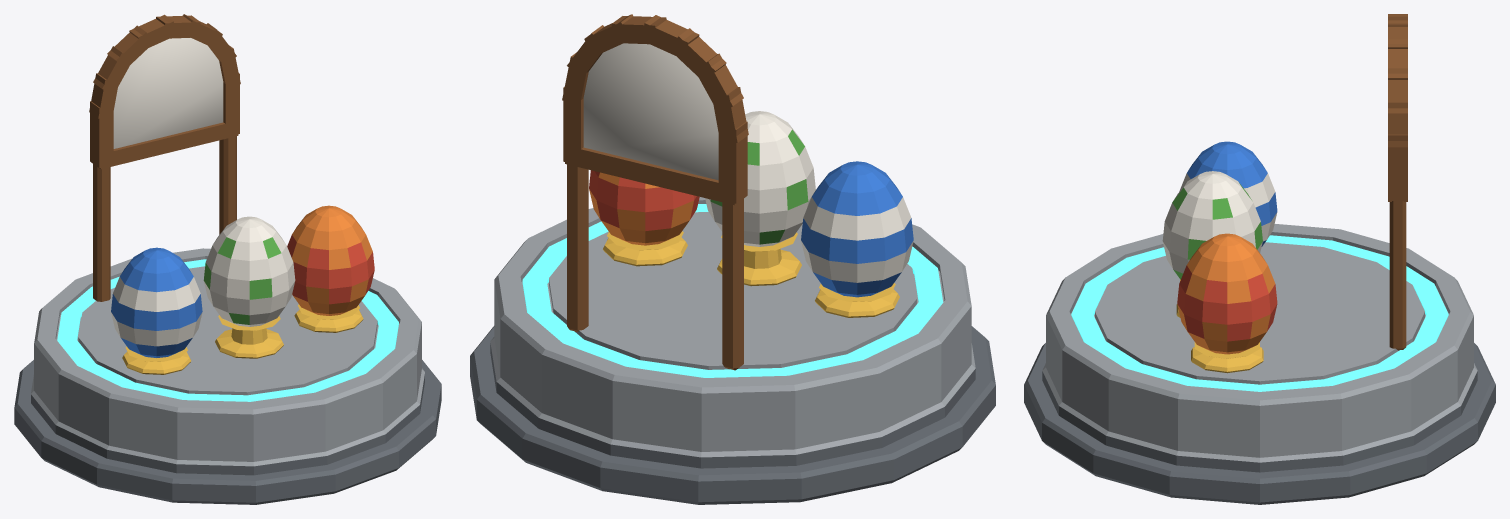
The model's file is egg-hatching-stand.glb.
The picture shows the model from 3 angles, left to right: view 1: azimuth 30°, elevation 25°; view 2: azimuth 150°, elevation 25°; view 3: azimuth 270°, elevation 25°; orthographic projection. The views are drawn at different scales.
Visible parts, largest first — view 1: Pedestal, SignBoard, SignFrame, Egg_Striped, Egg_Spotted, Egg_Zigzag, GlowRing, SignPost_L, EggCup_2, SignPost_R, EggCup_3, EggCup_1; view 2: Pedestal, SignBoard, SignFrame, Egg_Striped, GlowRing, Egg_Spotted, Egg_Zigzag, SignPost_L, SignPost_R, EggCup_2, EggCup_3, EggCup_1; view 3: Pedestal, Egg_Zigzag, GlowRing, Egg_Spotted, SignFrame, Egg_Striped, SignPost_R, EggCup_3.
Part boxes in pixels (box(x1,y1,x2,y2)): Pedestal: box(14, 248, 441, 504); SignBoard: box(113, 38, 223, 148); SignFrame: box(89, 14, 240, 169); Egg_Striped: box(111, 247, 202, 357); Egg_Spotted: box(203, 216, 295, 326); Egg_Zigzag: box(287, 205, 374, 315); GlowRing: box(57, 259, 398, 401); SignPost_L: box(93, 164, 110, 301); EggCup_2: box(215, 315, 283, 358); SignPost_R: box(219, 136, 236, 234); EggCup_3: box(294, 304, 363, 332); EggCup_1: box(122, 346, 191, 374); Pedestal: box(470, 197, 995, 504); SignBoard: box(583, 43, 718, 180); SignFrame: box(562, 14, 748, 205); Egg_Striped: box(801, 161, 913, 297); GlowRing: box(522, 204, 943, 377); Egg_Spotted: box(705, 111, 815, 246); Egg_Zigzag: box(589, 170, 699, 245); SignPost_L: box(722, 198, 743, 370); SignPost_R: box(567, 164, 588, 331); EggCup_2: box(717, 232, 801, 286); EggCup_3: box(603, 231, 687, 266); EggCup_1: box(815, 283, 899, 317); Pedestal: box(1024, 224, 1495, 504); Egg_Zigzag: box(1177, 233, 1277, 354); GlowRing: box(1071, 235, 1448, 391); Egg_Spotted: box(1162, 171, 1262, 279); SignFrame: box(1388, 14, 1407, 201); Egg_Striped: box(1179, 141, 1277, 246); SignPost_R: box(1389, 201, 1406, 350); EggCup_3: box(1191, 342, 1263, 373).
Size of the model in its own units: 13 by 11.68 by 13.
